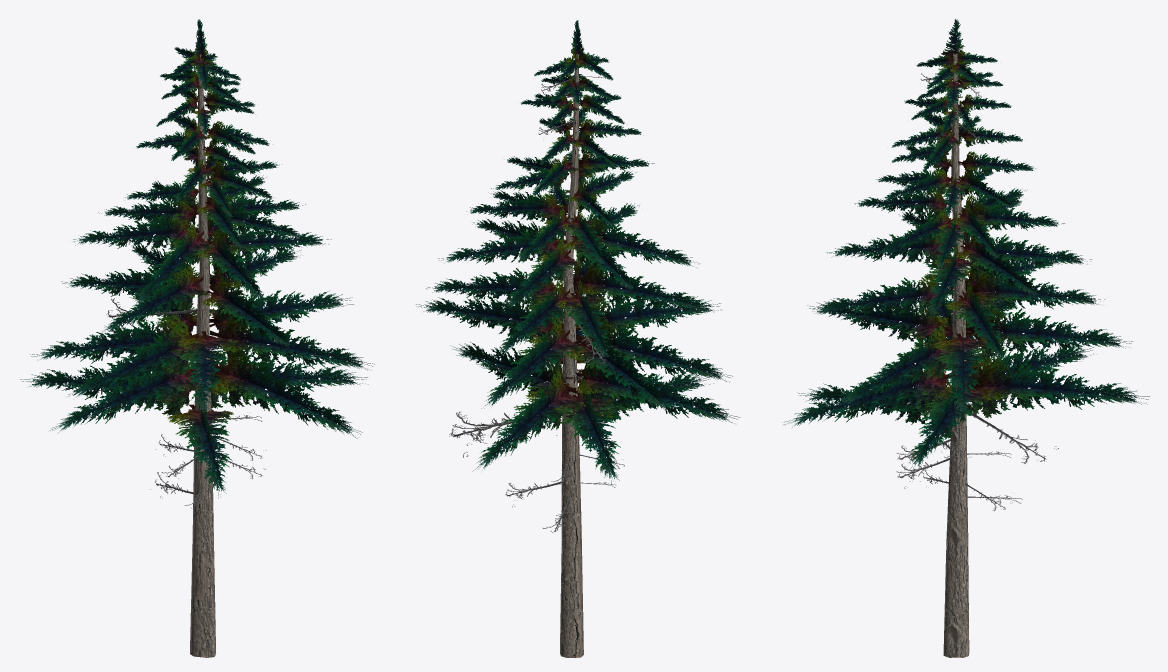
The model's file is conifer04_tall.glb.
The picture shows the model from 3 angles, left to right: view 1: azimuth 30°, elevation 25°; view 2: azimuth 150°, elevation 25°; view 3: azimuth 270°, elevation 25°; orthographic projection.
Parts seen in each view (by area): view 1: $ColladaAutoName$_1; view 2: $ColladaAutoName$_1; view 3: $ColladaAutoName$_1.
Part boxes in pixels (left/top/right/bottom): $ColladaAutoName$_1: left=20, top=19, right=374, bottom=657; $ColladaAutoName$_1: left=416, top=20, right=740, bottom=657; $ColladaAutoName$_1: left=783, top=19, right=1149, bottom=657.
Bounding box in the file's own units: 17.84 × 34.1 × 18.33.
3 materials, 3 textured.
